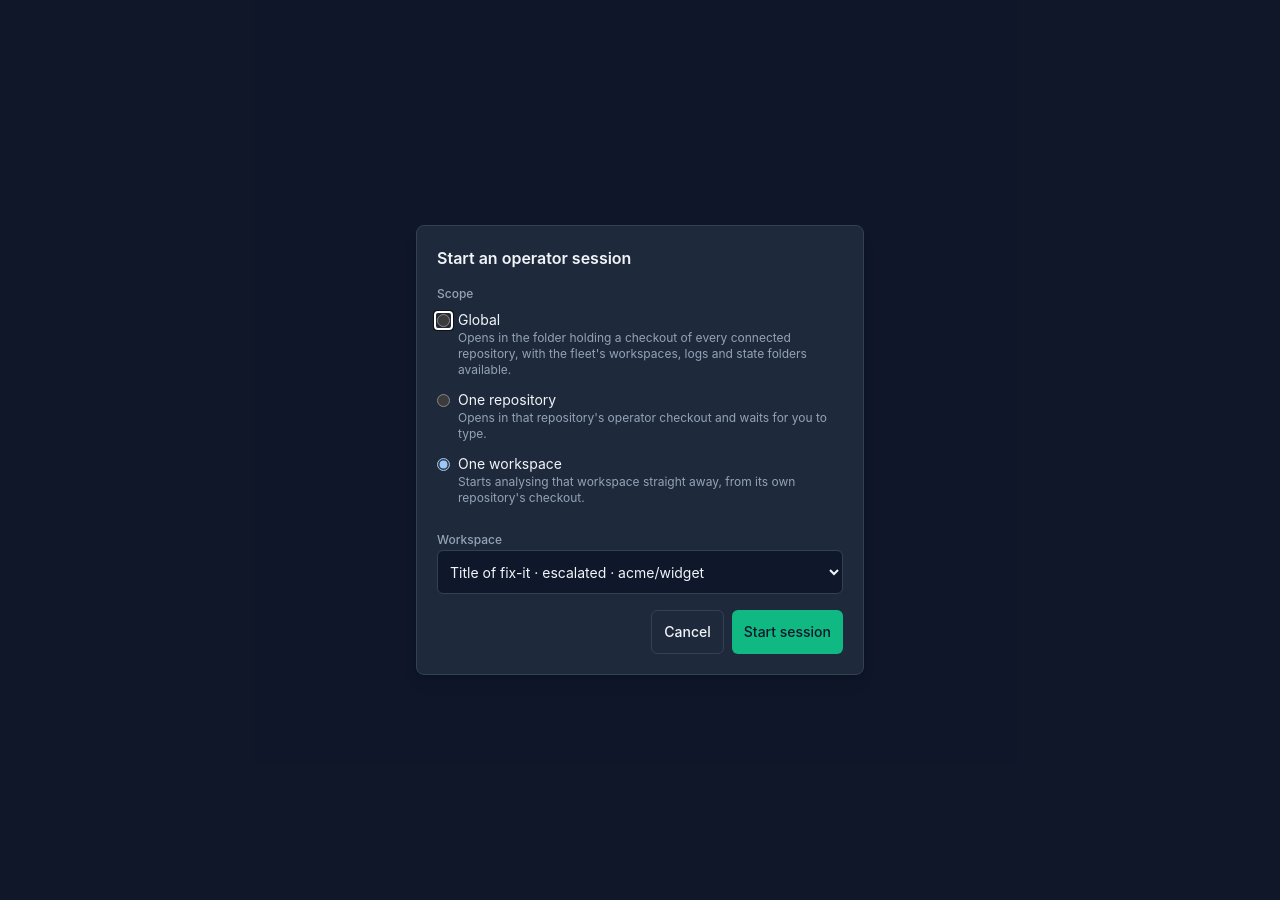
it: ScopePickerDialog — choosing a scope › does not carry a workspace id over into the repository list
Click the radio button with test id "operator-scope-repo": (444, 400) [437,394,450,407]
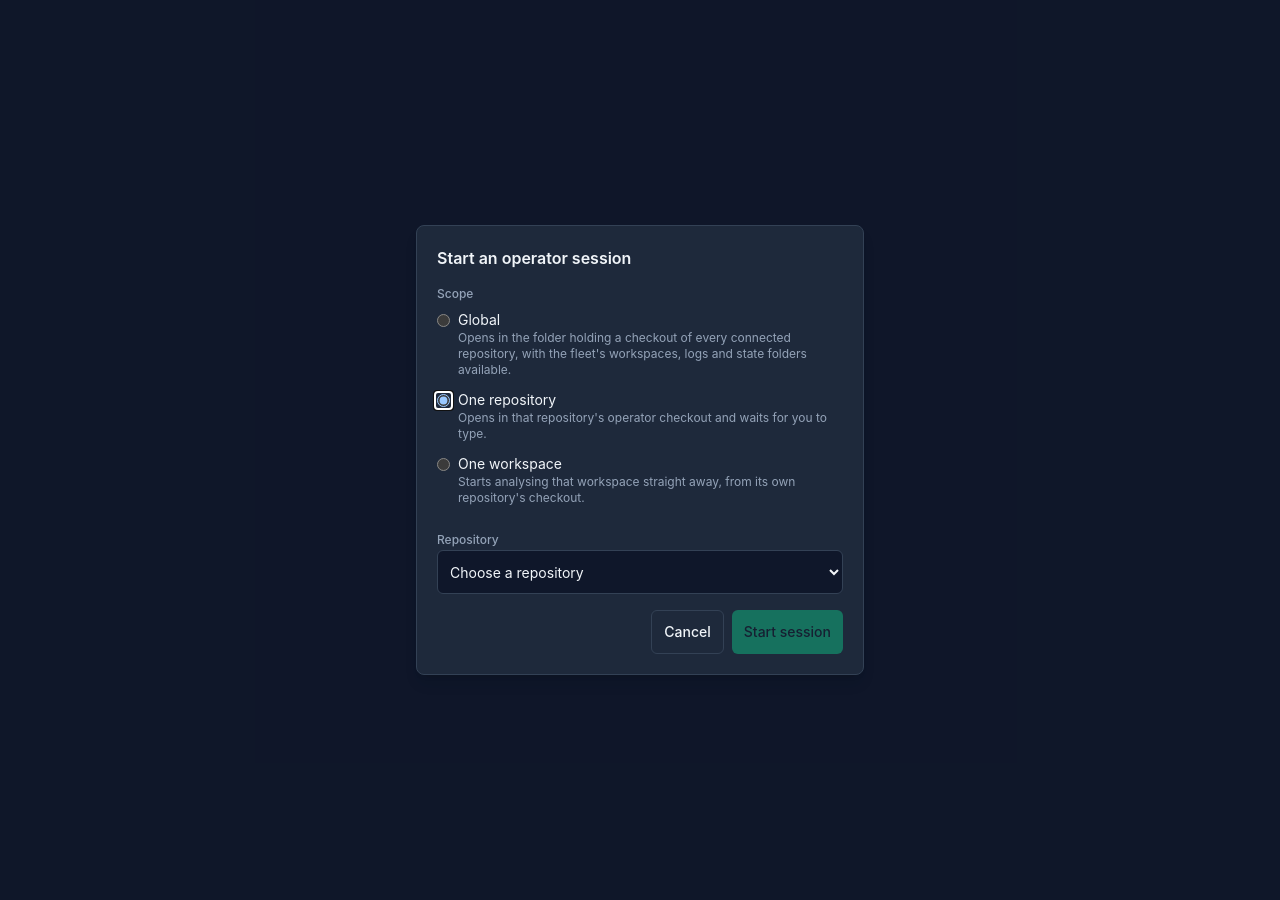
Result: the dropdown with test id "operator-target" shows "Choose a repository" at [437,550,843,594]
